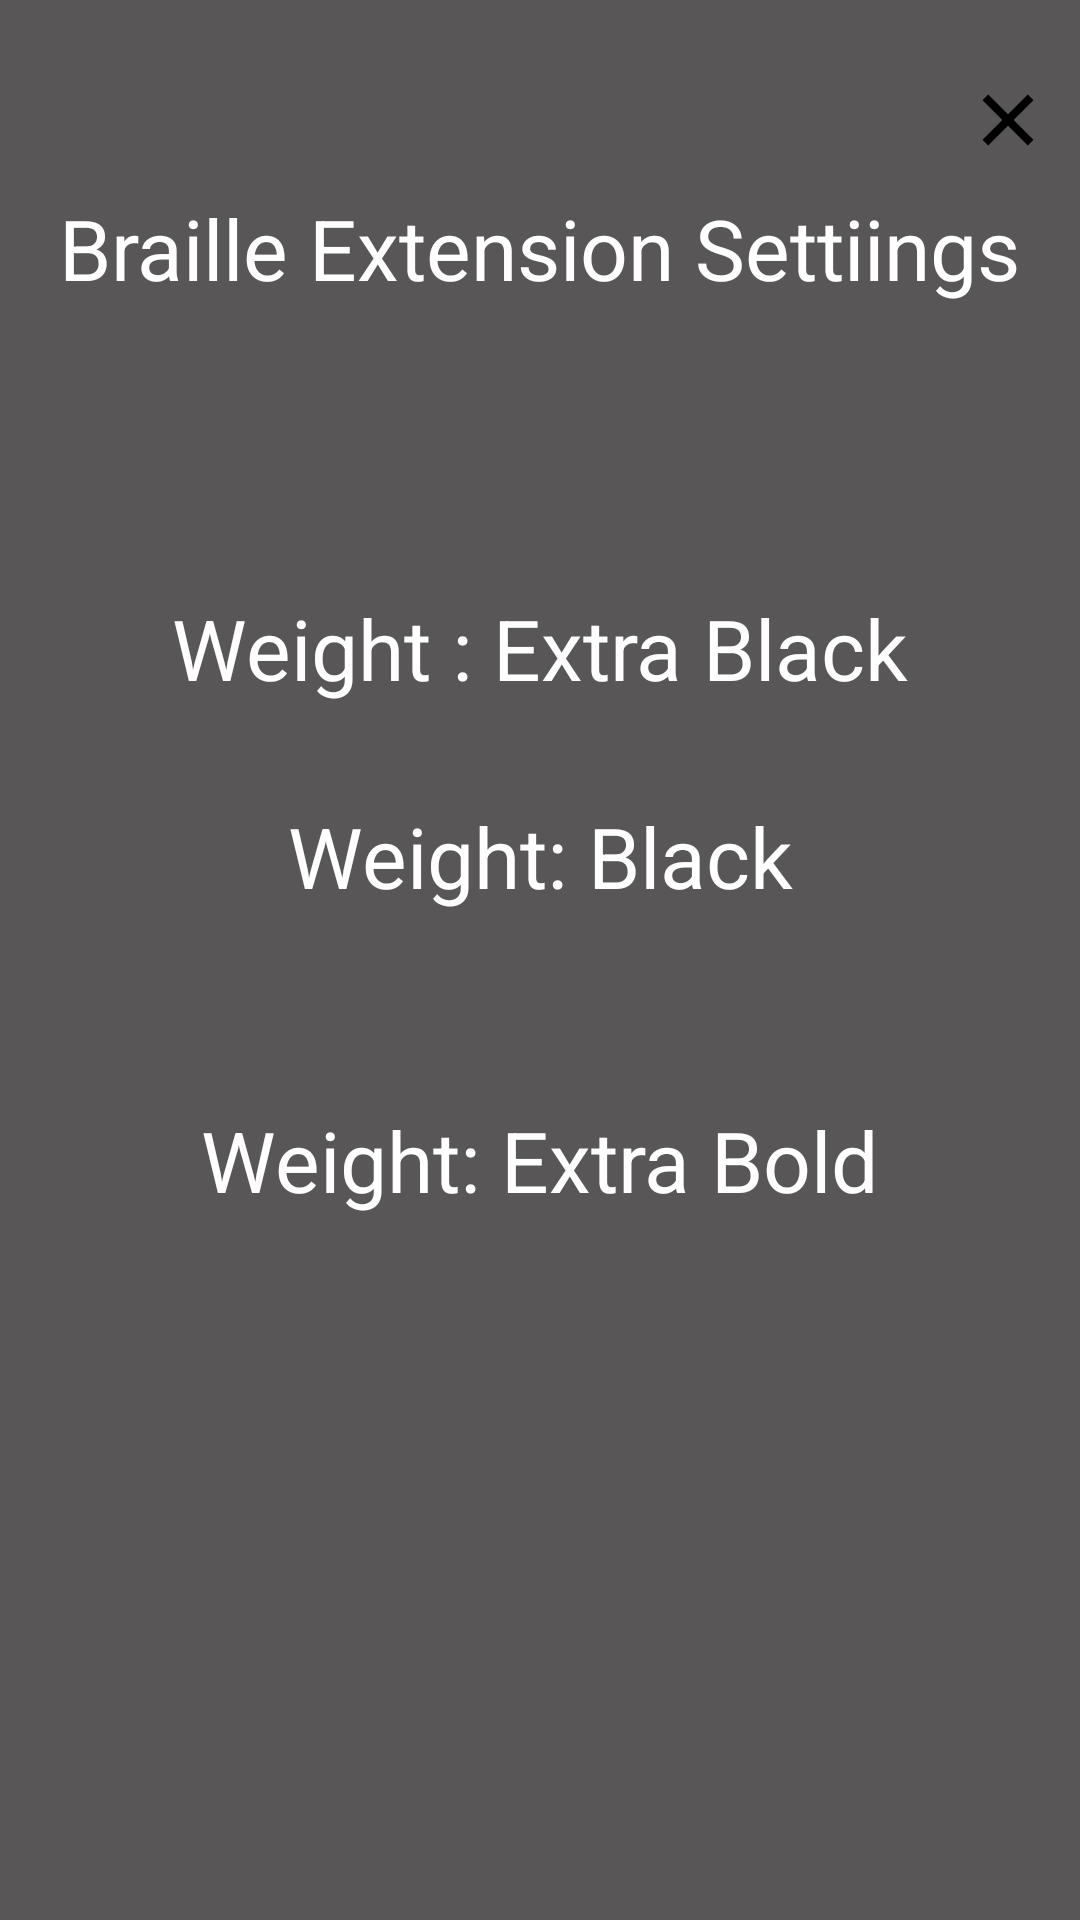

Screen size 1080×1920. Icon name, then its center in pixels as [x,y]:
multiplication: [1008,120]
